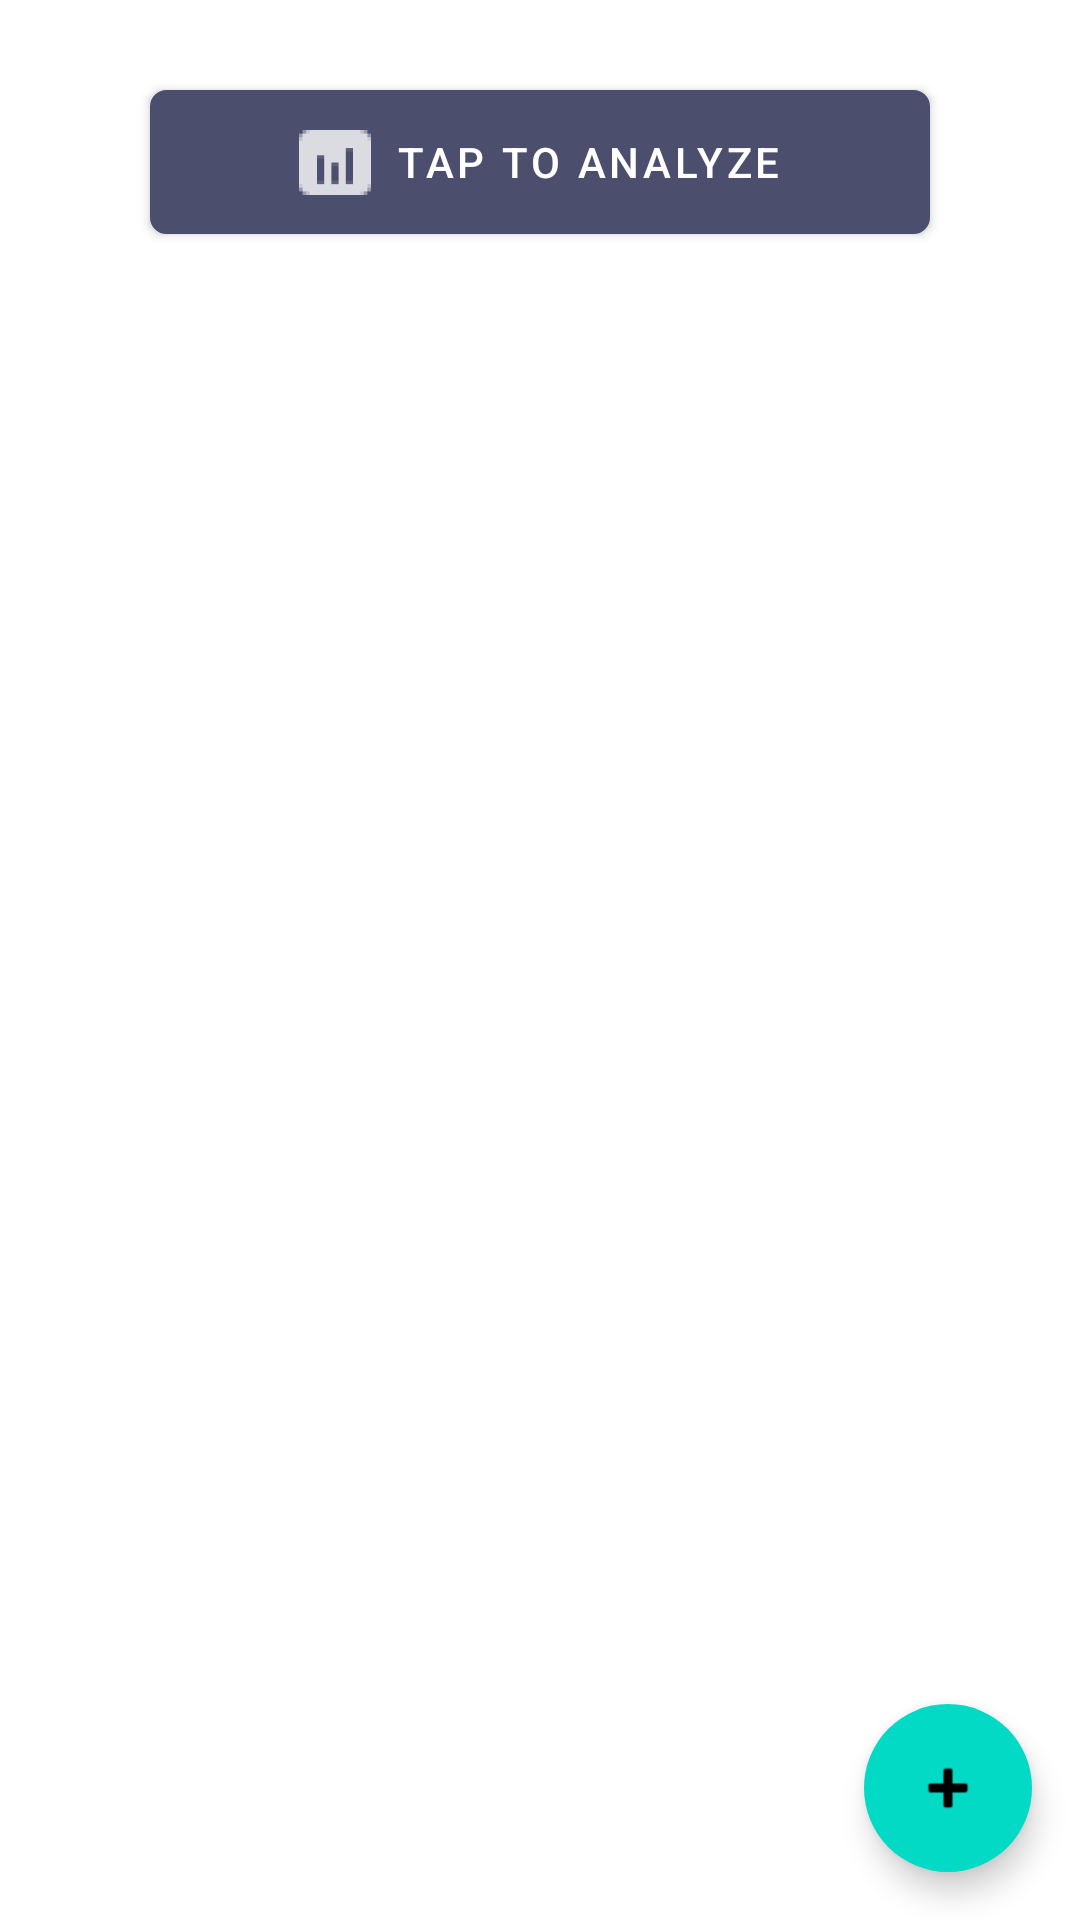

Named icons in this screenshot (1080px×1920px) and their bounding boxes, (x1, y1, x2, y2):
Add a spending: (864, 1704, 1032, 1872)
